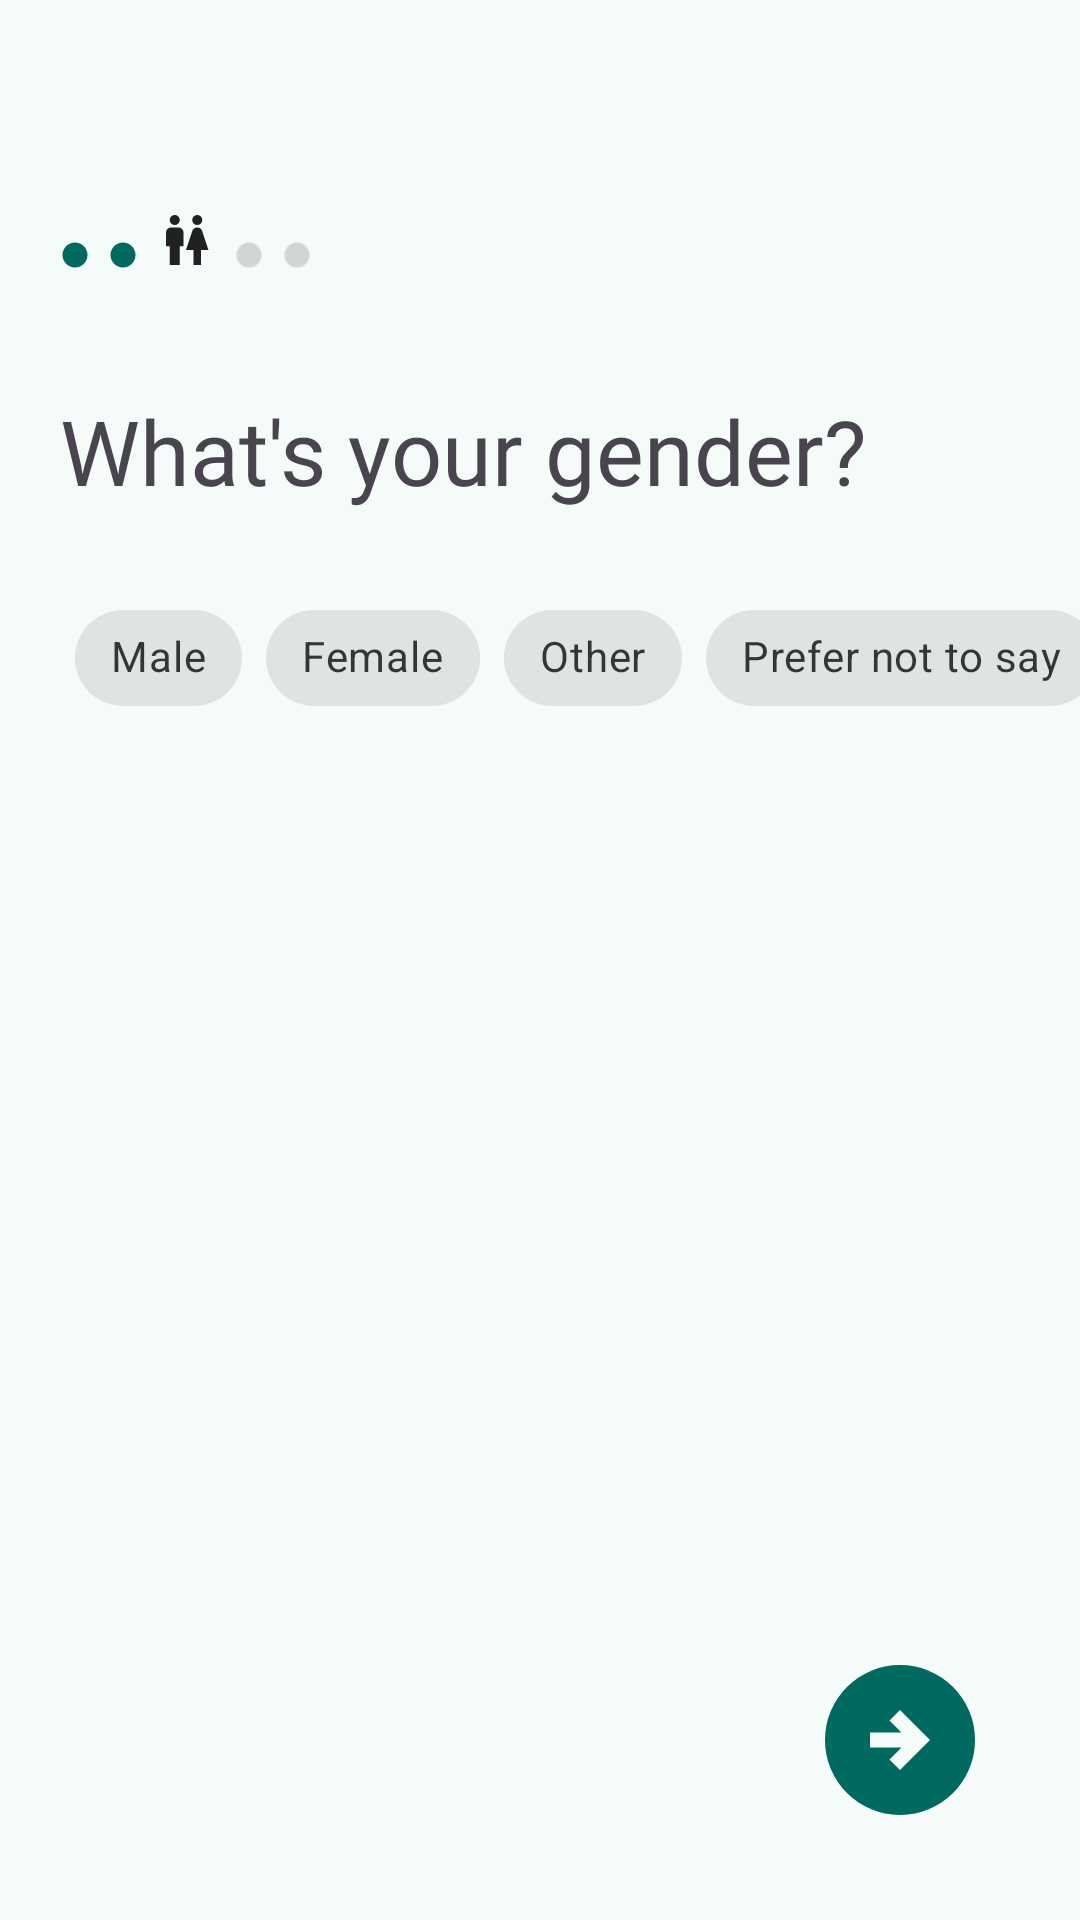

Named icons in this screenshot (1080x1920) and their centers, point (x, y):
next: point (900, 1740)
